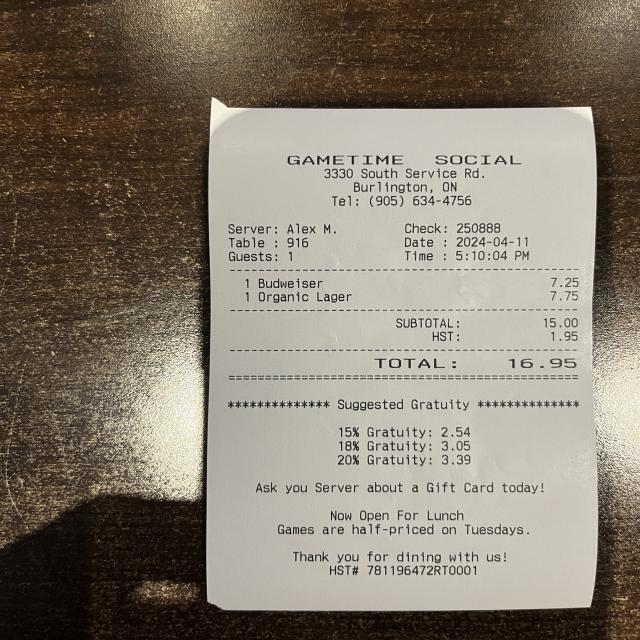item: (254, 274, 584, 290), (254, 290, 584, 304)
store_name: (283, 152, 525, 169)
total_amount: (370, 354, 582, 373)
transaction_date: (451, 235, 532, 250)
